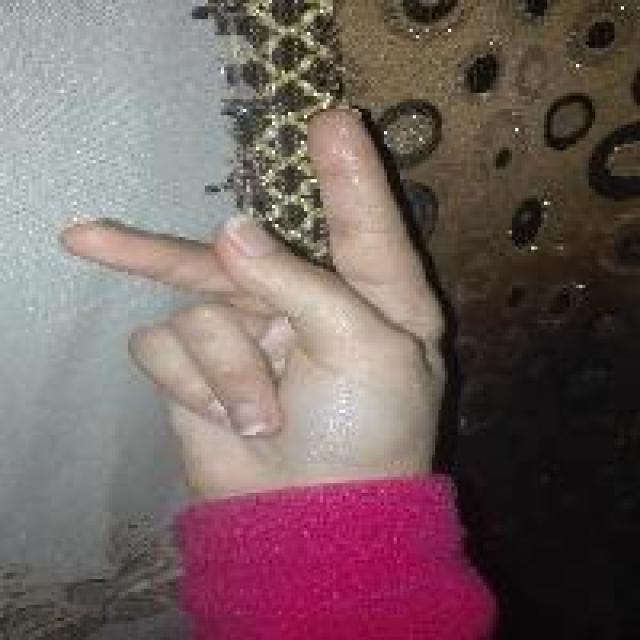K: (43, 102, 453, 477)
